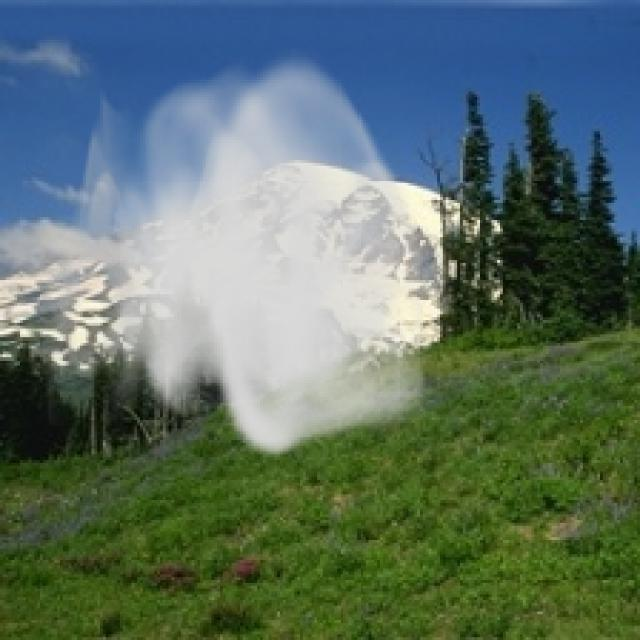Smoke: (37, 46, 437, 460)
